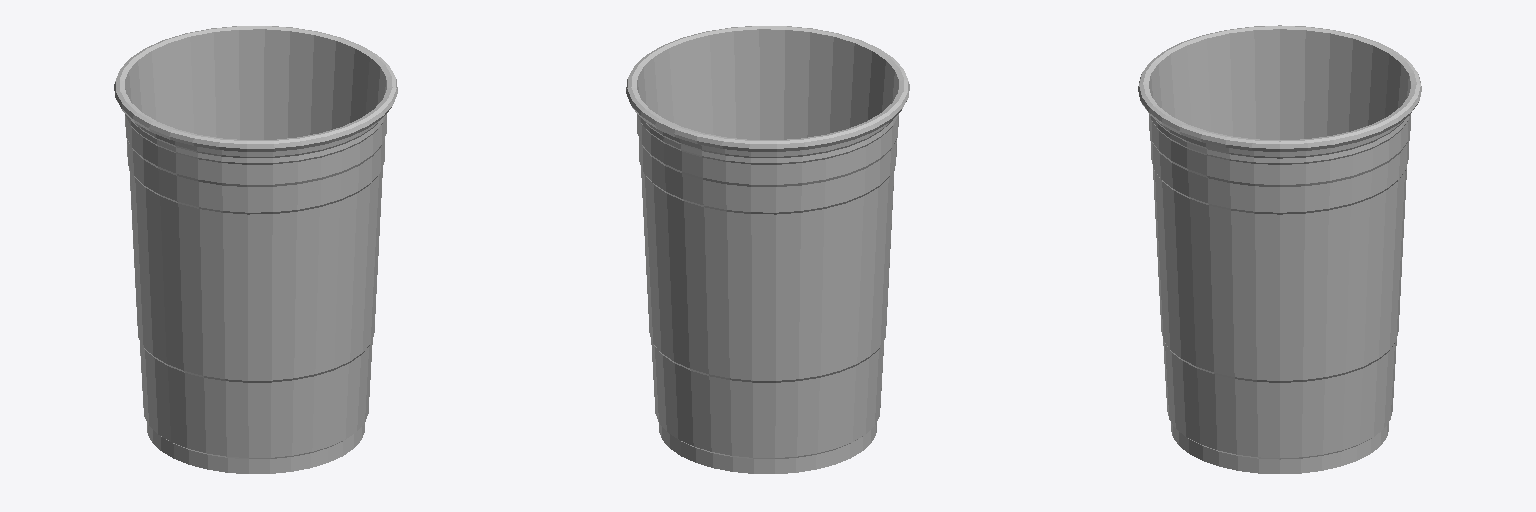
File: kegcupobj.obj
3 renders of one model, left to right at view 1: azimuth 30°, elevation 25°; view 2: azimuth 150°, elevation 25°; view 3: azimuth 270°, elevation 25°, orthographic.
Parts seen in each view (by area): view 1: Cylinder; view 2: Cylinder; view 3: Cylinder.
Part boxes in pixels (x1,y1,x2,y2): Cylinder: (114,26,397,473); Cylinder: (626,26,909,473); Cylinder: (1138,25,1421,473).
Bounding box in the file's own units: 2.76 × 3.69 × 2.76.